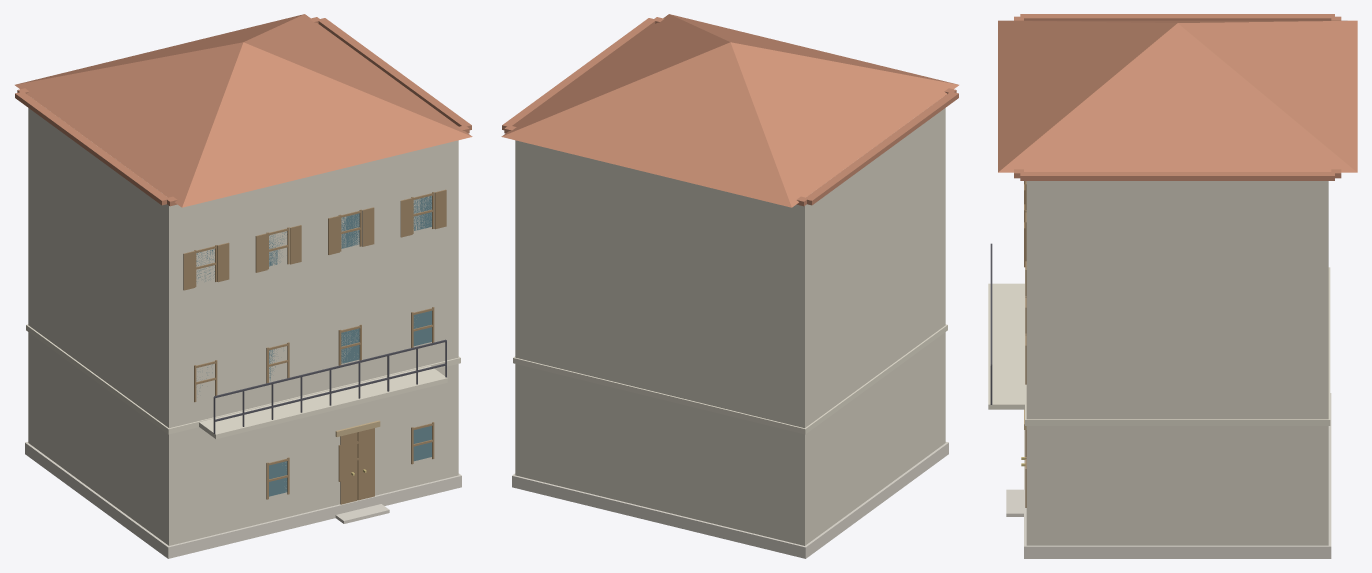
Rendered from mdl_buildings_house_colonial_02_002.glb.
The picture shows the model from 3 angles, left to right: view 1: azimuth 30°, elevation 25°; view 2: azimuth 150°, elevation 25°; view 3: azimuth 270°, elevation 25°; orthographic projection. The views are drawn at different scales.
Parts seen in each view (by area): view 1: m_fachada, m_teja, m_madera, m_crema, m_caliza, m_vidrio_petroleo, m_carbon; view 2: m_fachada, m_teja, m_caliza, m_crema; view 3: m_fachada, m_teja, m_crema, m_caliza, m_madera, m_carbon.
Boxes of the visible parts, x1=… form: m_fachada: x1=28, y1=108, x2=458, y2=545; m_teja: x1=15, y1=14, x2=472, y2=207; m_madera: x1=183, y1=189, x2=446, y2=504; m_crema: x1=26, y1=324, x2=460, y2=438; m_caliza: x1=25, y1=442, x2=461, y2=558; m_vidrio_petroleo: x1=196, y1=195, x2=431, y2=496; m_carbon: x1=213, y1=339, x2=446, y2=433; m_fachada: x1=515, y1=108, x2=945, y2=545; m_teja: x1=501, y1=14, x2=958, y2=207; m_caliza: x1=512, y1=442, x2=948, y2=558; m_crema: x1=513, y1=324, x2=947, y2=434; m_fachada: x1=1026, y1=181, x2=1328, y2=545; m_teja: x1=998, y1=14, x2=1357, y2=180; m_crema: x1=988, y1=267, x2=1330, y2=425; m_caliza: x1=1006, y1=393, x2=1331, y2=558; m_madera: x1=1024, y1=181, x2=1026, y2=507; m_carbon: x1=990, y1=243, x2=992, y2=404.
Size of the model in its own units: 8.46 by 11.17 by 8.14.
